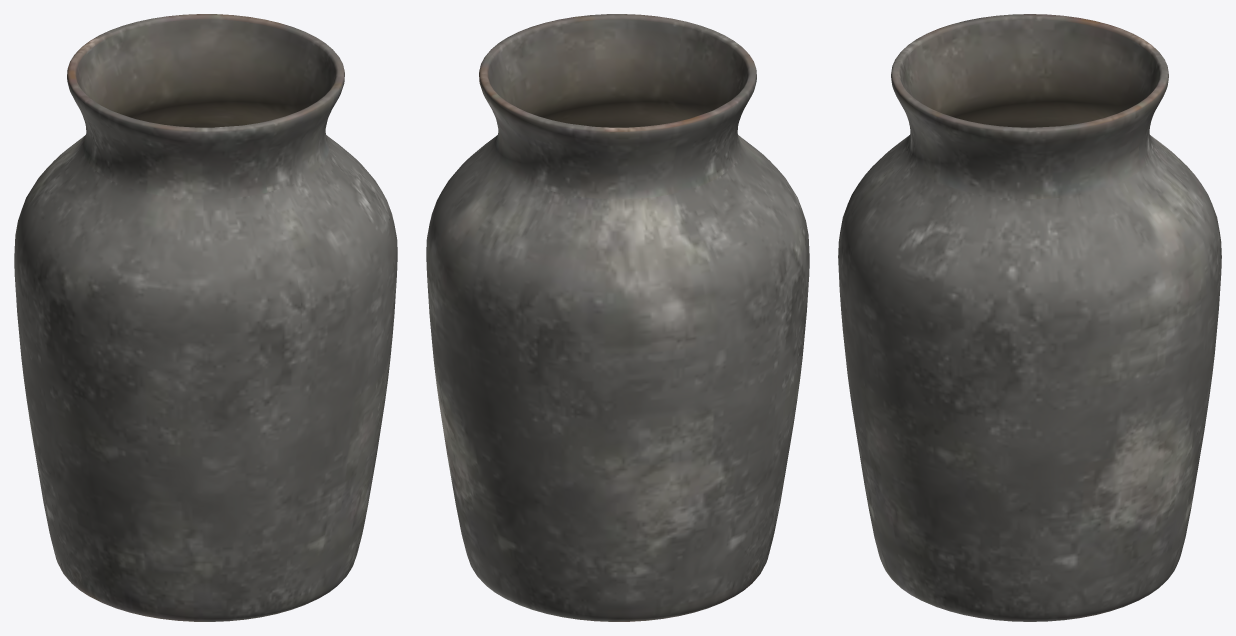
The model's file is ceramic_vase_02.glb.
3 renders of one model, left to right at view 1: azimuth 30°, elevation 25°; view 2: azimuth 150°, elevation 25°; view 3: azimuth 270°, elevation 25°, orthographic.
Visible parts, largest first — view 1: ceramic_vase_02; view 2: ceramic_vase_02; view 3: ceramic_vase_02.
Boxes of the visible parts, x1,y1,x2,y2 form: ceramic_vase_02: (14, 14, 397, 621); ceramic_vase_02: (426, 14, 809, 621); ceramic_vase_02: (838, 14, 1221, 621).
Size of the model in its own units: 0.2184 by 0.3092 by 0.2184.
1 material, 1 textured.
